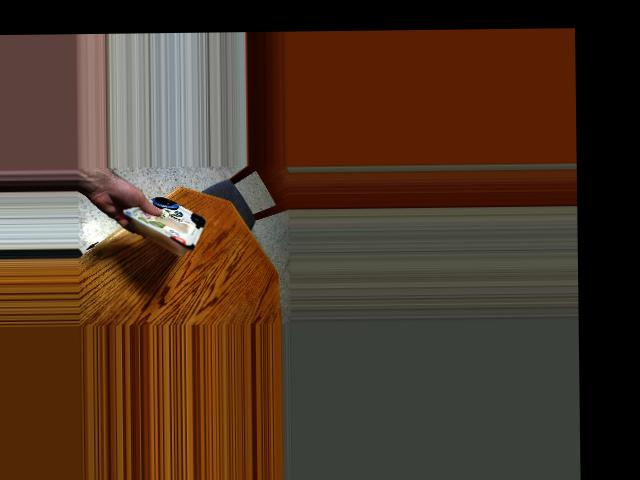cheese: (136, 186, 202, 263)
